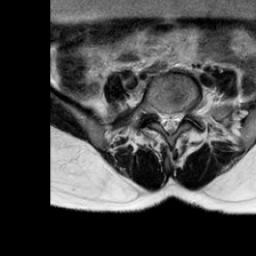CCS_normal: (165, 103, 173, 140)
LFS_normal: (180, 99, 188, 123)
LLS_normal: (173, 103, 180, 133)
RFS_normal: (150, 97, 157, 121)
RLS_normal: (157, 102, 165, 134)
